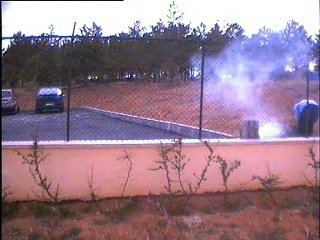smoke: (191, 22, 303, 142)
